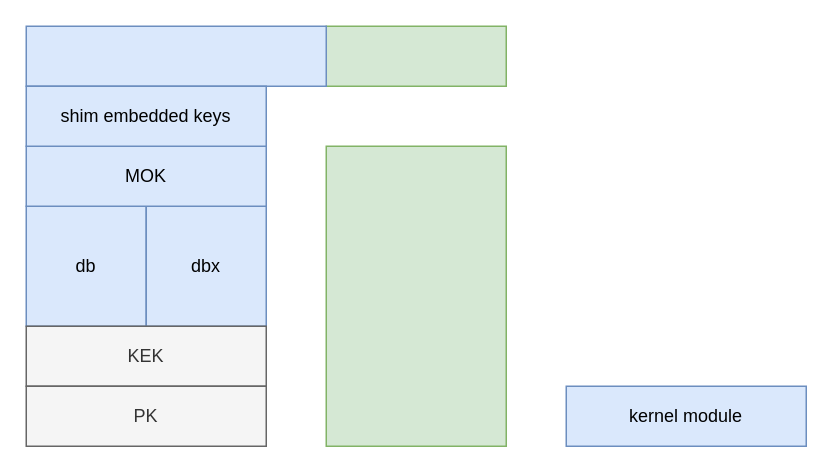
The diagram is 833 pixels wide and 473 high, and some of its shapes have lost their labels. Here are the shapes that lost their labels. From the top down, the box of each, then its label:
(25, 25, 326, 86): Linux kernel embedded keys
(325, 25, 506, 86): Linux kernel
(325, 145, 506, 446): UEFI Firmware
